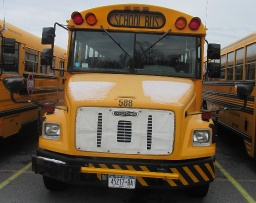bus: (37, 2, 215, 200)
